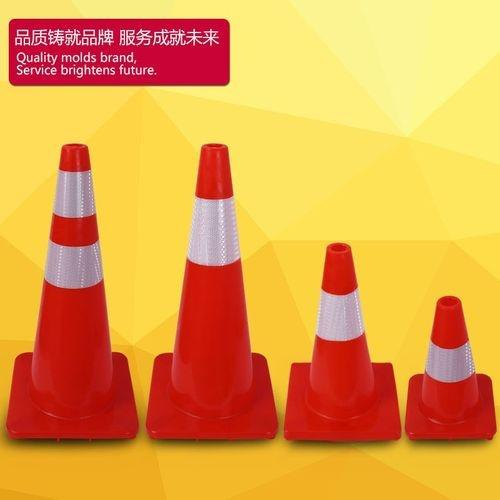cone_barrel: (161, 153, 267, 430), (20, 153, 126, 430), (299, 243, 382, 425), (409, 294, 491, 437)
